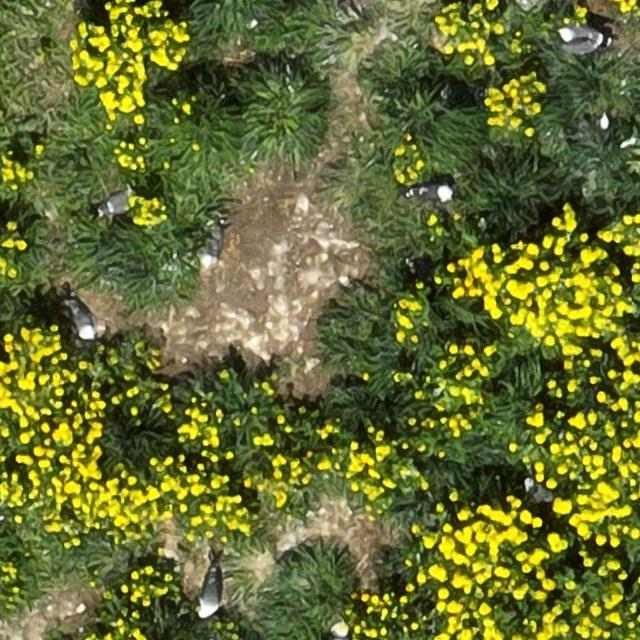umineko: (199, 572, 220, 616), (72, 303, 96, 337), (101, 191, 133, 214), (561, 34, 601, 52), (409, 185, 450, 201), (202, 230, 220, 264)
